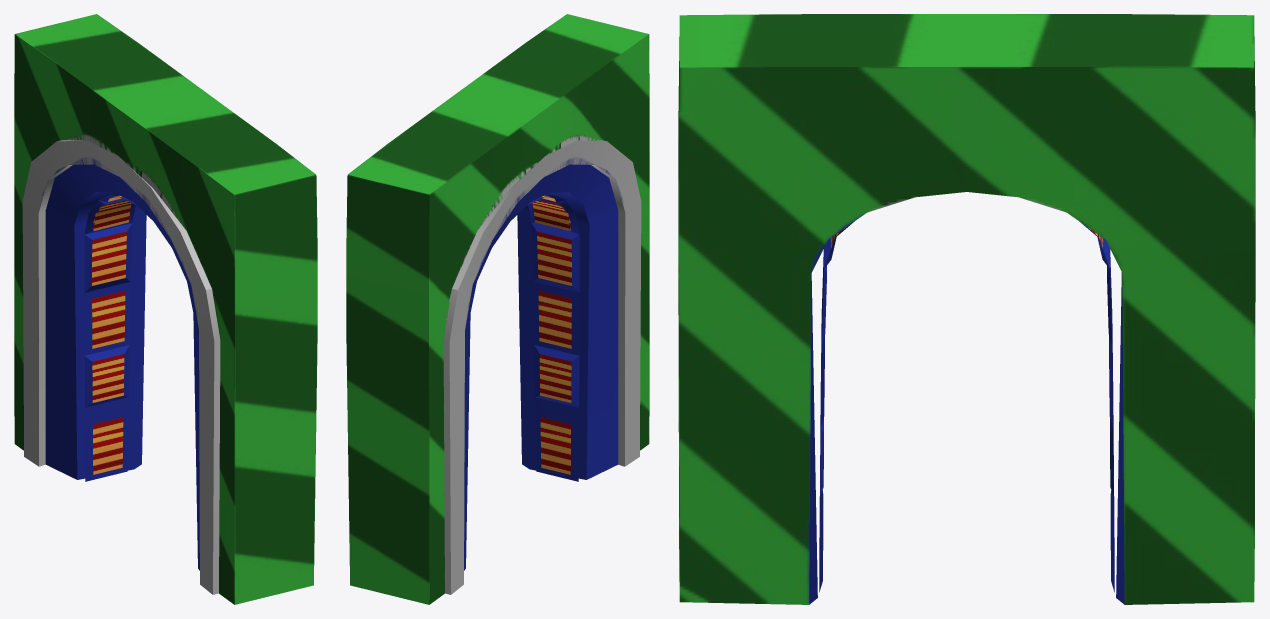
File: Arc.fbx
The picture shows the model from 3 angles, left to right: view 1: azimuth 30°, elevation 25°; view 2: azimuth 150°, elevation 25°; view 3: azimuth 270°, elevation 25°; orthographic projection. The views are drawn at different scales.
Visible parts, largest first — view 1: Main, Inside; view 2: Main, Inside; view 3: Main, Inside.
Boxes of the visible parts, x1,y1,x2,y2 form: Main: (14,14,317,604); Inside: (84,195,136,481); Main: (346,14,649,604); Inside: (527,195,579,481); Main: (678,14,1255,604); Inside: (819,221,1114,592).
Bounding box in the file's own units: 4.28 × 19.05 × 18.41.
